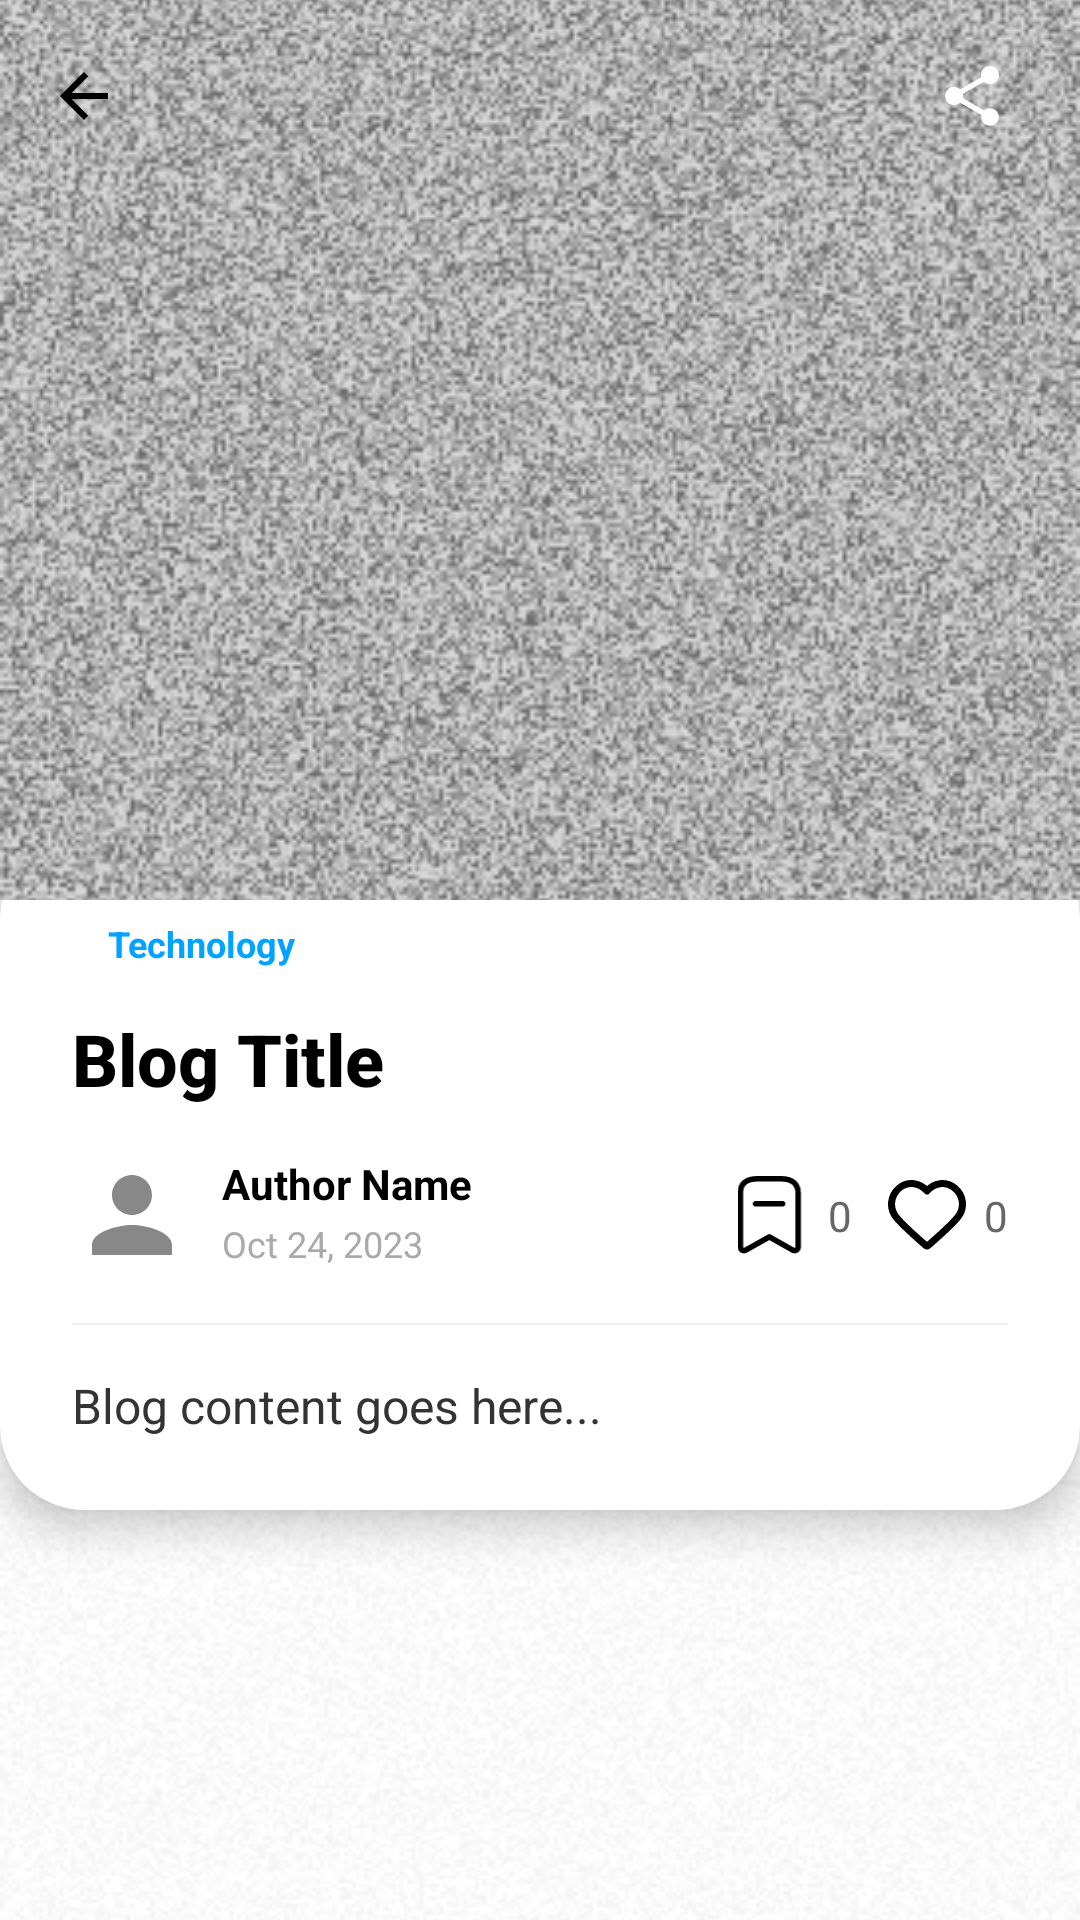

Locate icon controls on the screen. Image size 1080px x 1920px, boxes as (x1, y1, x2, y2).
person: (92, 1175, 172, 1255)
savewhite: (738, 1176, 802, 1254)
whitehearticon: (888, 1180, 966, 1250)
